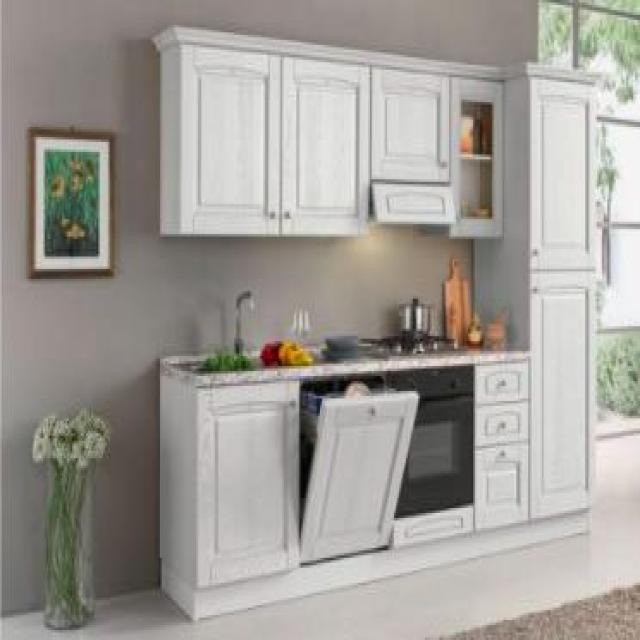dishwasher: (293, 366, 422, 573)
